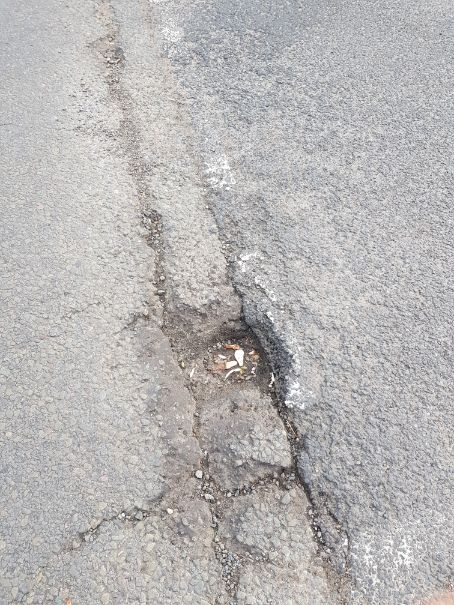pothole: (128, 305, 319, 505)
